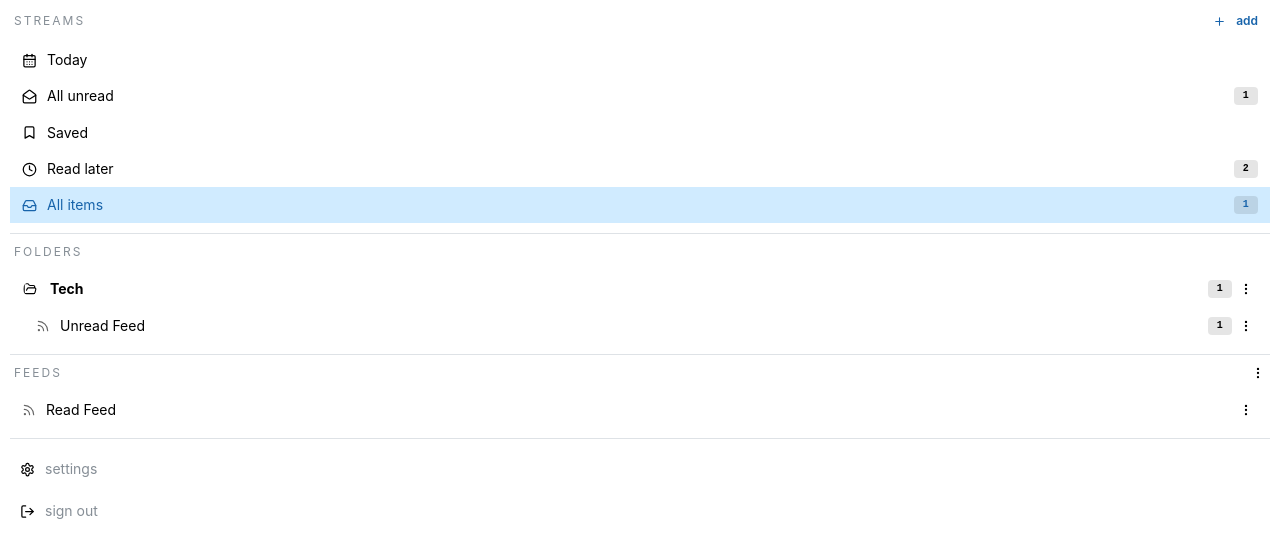
Sidebar sections › opens an add menu with feed, folder, and article actions
Click the button "add".
click(1237, 21)  # box [1208,10,1266,32]
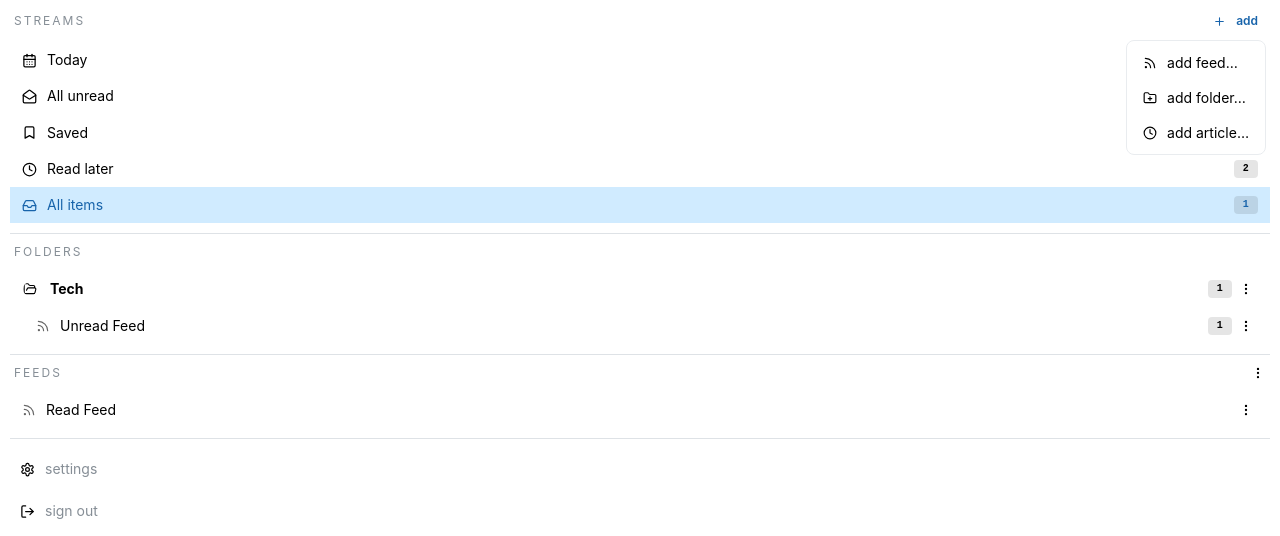
Expected: the text "add feed…" is shown, [1167,52,1249,73]
Expected: the text "add folder…" is shown, [1167,87,1249,108]
Expected: the text "add article…" is shown, [1167,122,1249,143]
